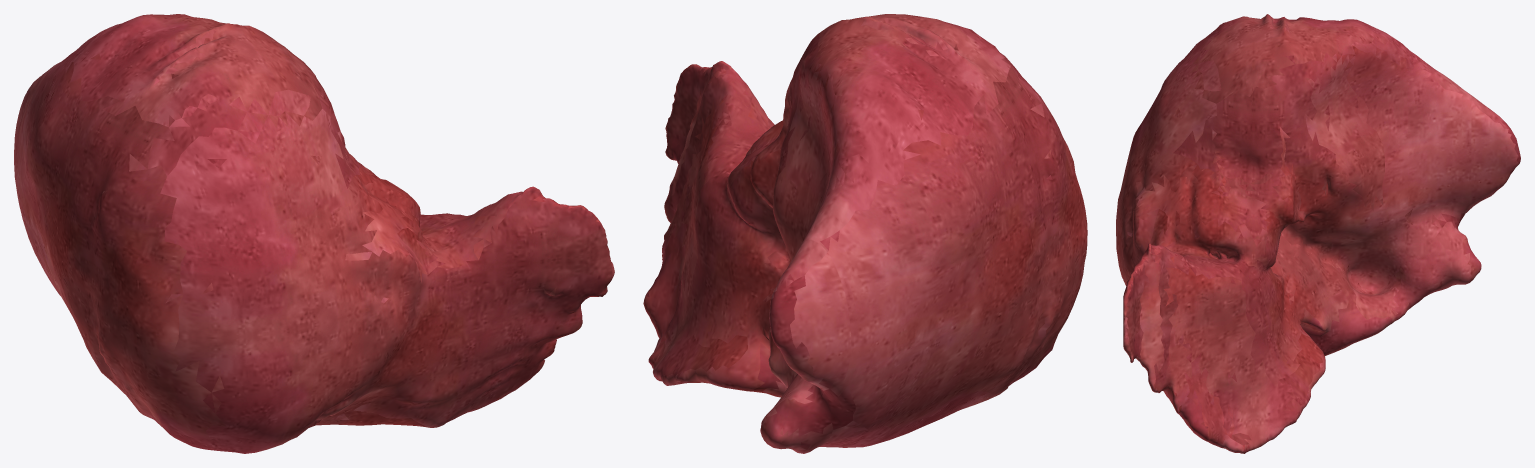
Rendered from liver.glb.
3 views of the same model, side by side, from view 1: azimuth 30°, elevation 25°; view 2: azimuth 150°, elevation 25°; view 3: azimuth 270°, elevation 25° (orthographic). The views are drawn at different scales.
Parts seen in each view (by area): view 1: obj1; view 2: obj1; view 3: obj1.
Part boxes in pixels (left/top/right/bottom): obj1: left=14, top=14, right=614, bottom=453; obj1: left=643, top=14, right=1087, bottom=453; obj1: left=1116, top=14, right=1520, bottom=453.
Size of the model in its own units: 190 by 167 by 182.
Materials: 1 (1 with a texture image).
